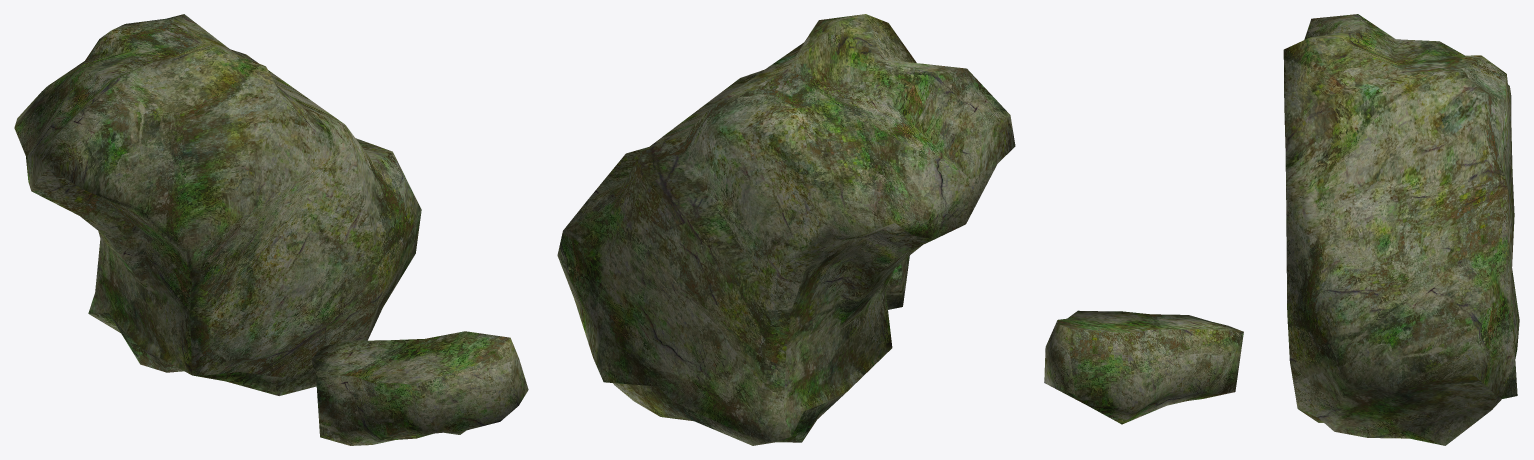
The model's file is stone_011.FBX.
3 views of the same model, side by side, from view 1: azimuth 30°, elevation 25°; view 2: azimuth 150°, elevation 25°; view 3: azimuth 270°, elevation 25° (orthographic). The views are drawn at different scales.
Visible parts, largest first — view 1: stone_011_01; view 2: stone_011_01; view 3: stone_011_01.
Part boxes in pixels (left/top/right/bottom): stone_011_01: left=14, top=14, right=528, bottom=445; stone_011_01: left=557, top=14, right=1015, bottom=445; stone_011_01: left=1044, top=14, right=1519, bottom=445.
Size of the model in its own units: 3.27 by 3.03 by 3.81.
